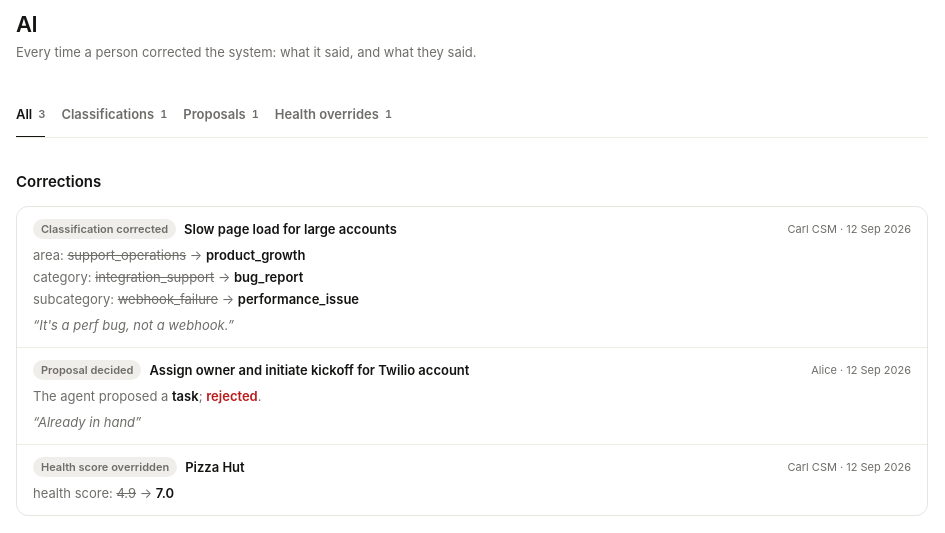
Test case: FeedbackLogPage › filters by kind, with counts on the tabs
Check: the text "Slow page load for large accounts" is shown, box [184,219,397,239]
Check: the tab "All 3" is shown, box [16,94,45,137]
Click the tab "Proposals 1".
click(221, 116)  # box [183,94,259,138]
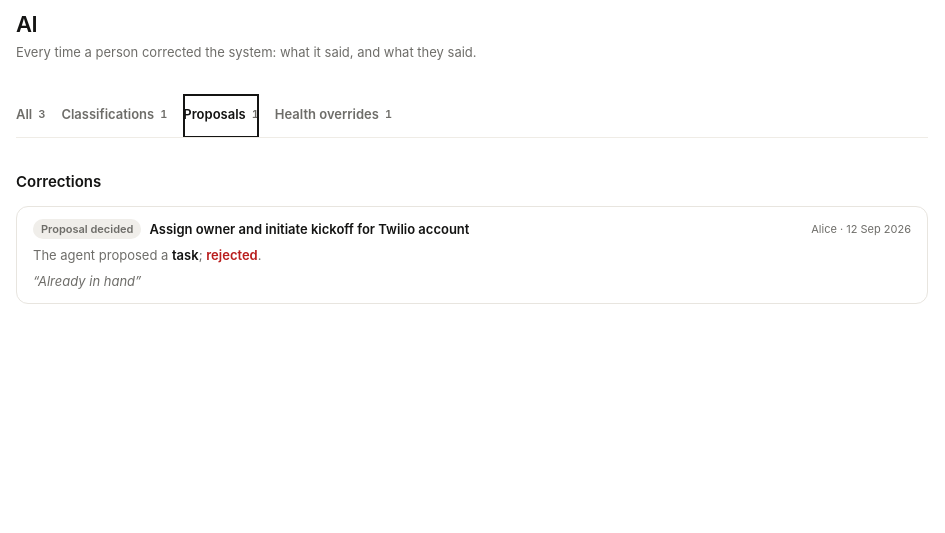
Check: the text "Assign owner and initiate kickoff for Twilio account" is shown, box [149,219,469,239]
Check: the text "Slow page load for large accounts" is gone
